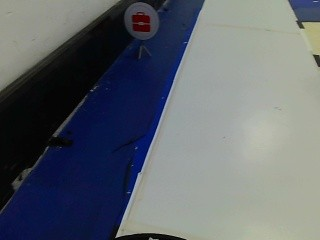company: (119, 2, 158, 40)
